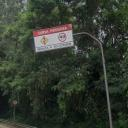speed_limit_40: (58, 33, 66, 42)
